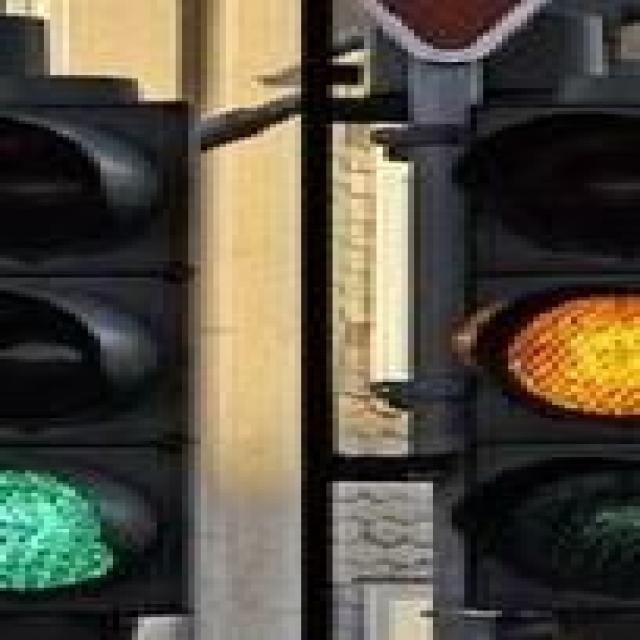yellow_light: (464, 104, 640, 614)
